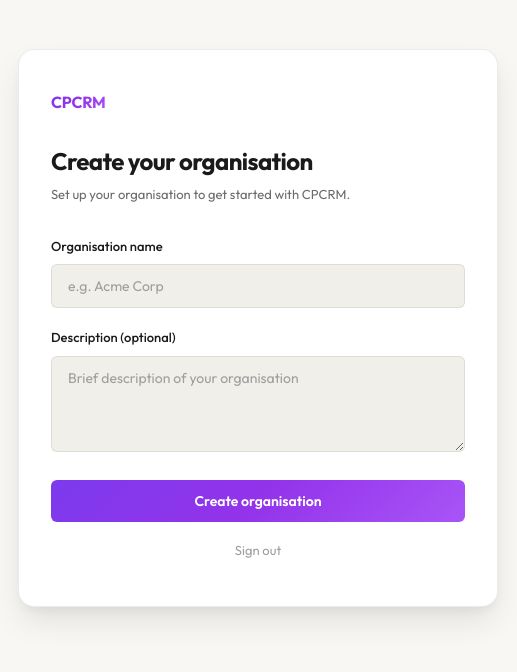
it: OrganisationProvisioningPage › shows a client-side validation error when name is empty and form is submitted
Click the button "Create organisation" at (258, 501), box [51,480,465,522]
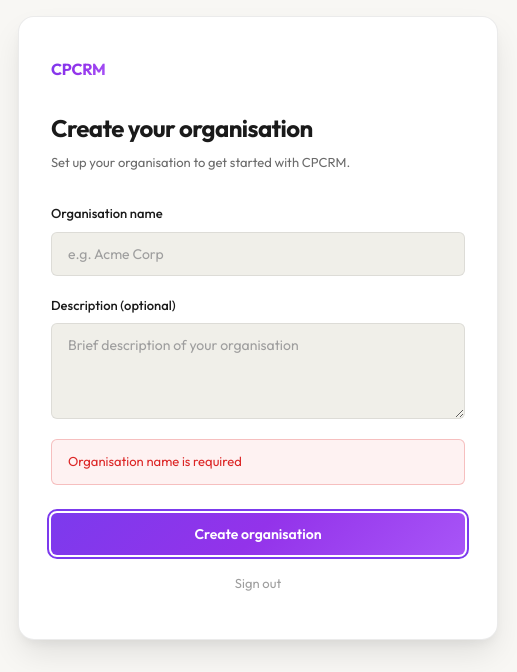
Check: the message reads "Organisation name is required", box [68,453,242,469]
